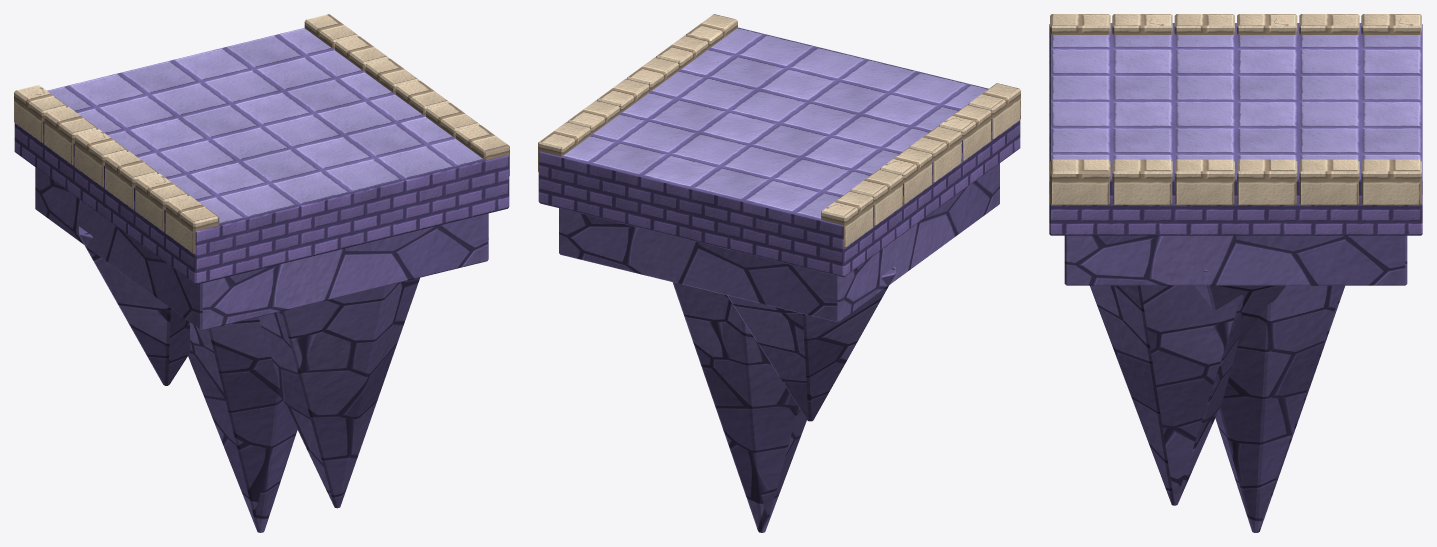
Rendered from Camino_Recto_1x1.fbx.
The picture shows the model from 3 angles, left to right: view 1: azimuth 30°, elevation 25°; view 2: azimuth 150°, elevation 25°; view 3: azimuth 270°, elevation 25°; orthographic projection. The views are drawn at different scales.
Visible parts, largest first — view 1: Mod_Camino_Recto_1x1; view 2: Mod_Camino_Recto_1x1; view 3: Mod_Camino_Recto_1x1.
Part boxes in pixels (bbox=[...]): Mod_Camino_Recto_1x1: bbox=[14, 14, 509, 532]; Mod_Camino_Recto_1x1: bbox=[538, 14, 1020, 532]; Mod_Camino_Recto_1x1: bbox=[1049, 14, 1422, 532].
Size of the model in its own units: 6.04 by 7.7 by 6.
